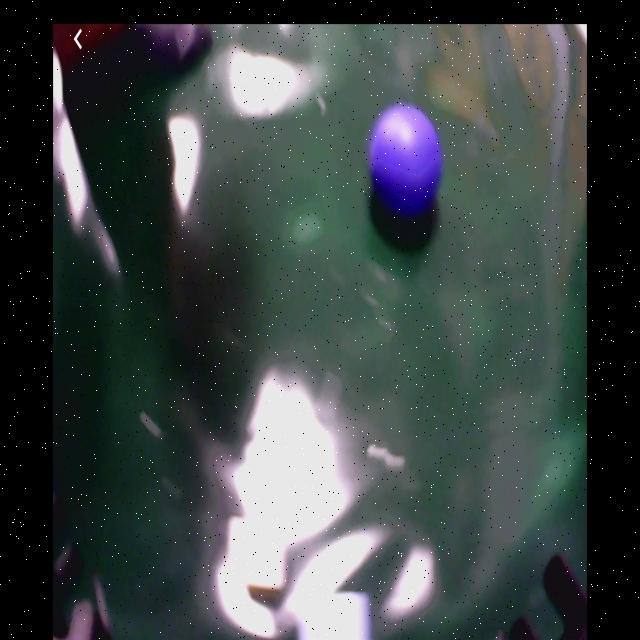ball: (372, 104, 441, 215)
